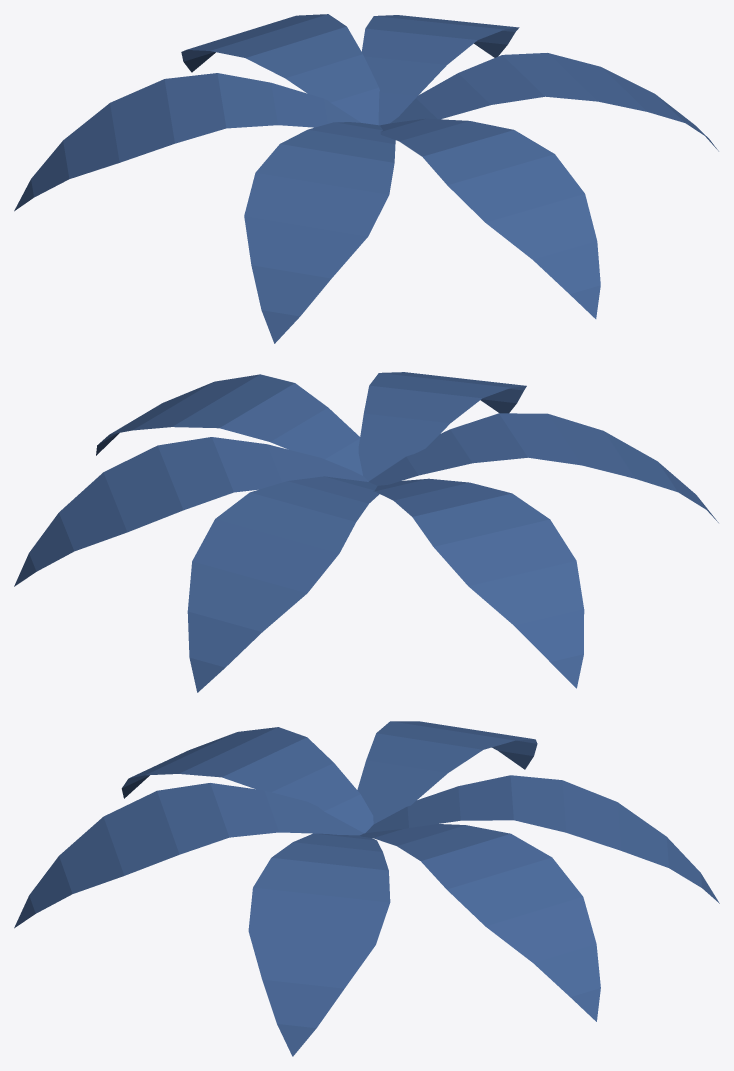
File: tree-winter-leaves-028.glb
3 renders of one model, top to bottom at view 1: azimuth 30°, elevation 25°; view 2: azimuth 150°, elevation 25°; view 3: azimuth 270°, elevation 25°, orthographic.
Parts seen in each view (by area): view 1: Plane.069_162; view 2: Plane.069_162; view 3: Plane.069_162.
Boxes of the visible parts, left/top/right/bottom form: Plane.069_162: left=14, top=14, right=718, bottom=343; Plane.069_162: left=14, top=372, right=718, bottom=692; Plane.069_162: left=14, top=721, right=719, bottom=1056.
Bounding box in the file's own units: 1.56 × 0.2753 × 1.62.
